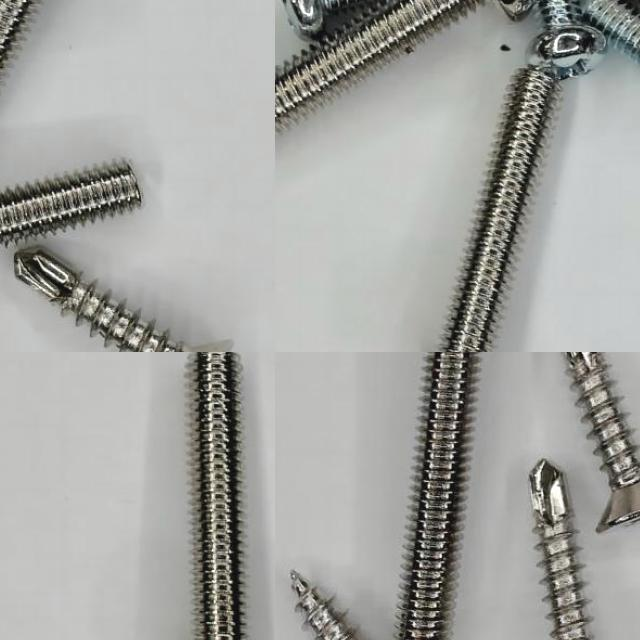Screw: (444, 65, 559, 352), (275, 0, 483, 133), (397, 352, 478, 640), (13, 250, 231, 352), (186, 352, 244, 640), (565, 352, 640, 532), (0, 162, 140, 245), (529, 459, 590, 640), (530, 0, 605, 78), (290, 571, 358, 640), (280, 0, 367, 39), (587, 0, 640, 62)
